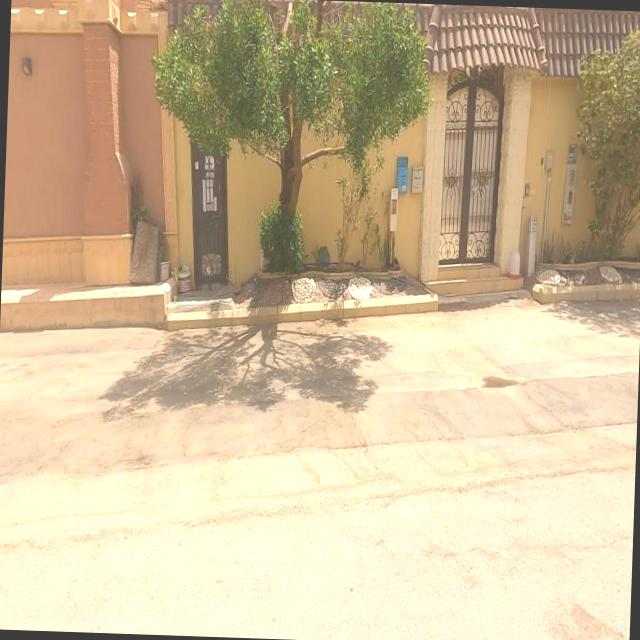debris: (486, 215, 544, 318)
